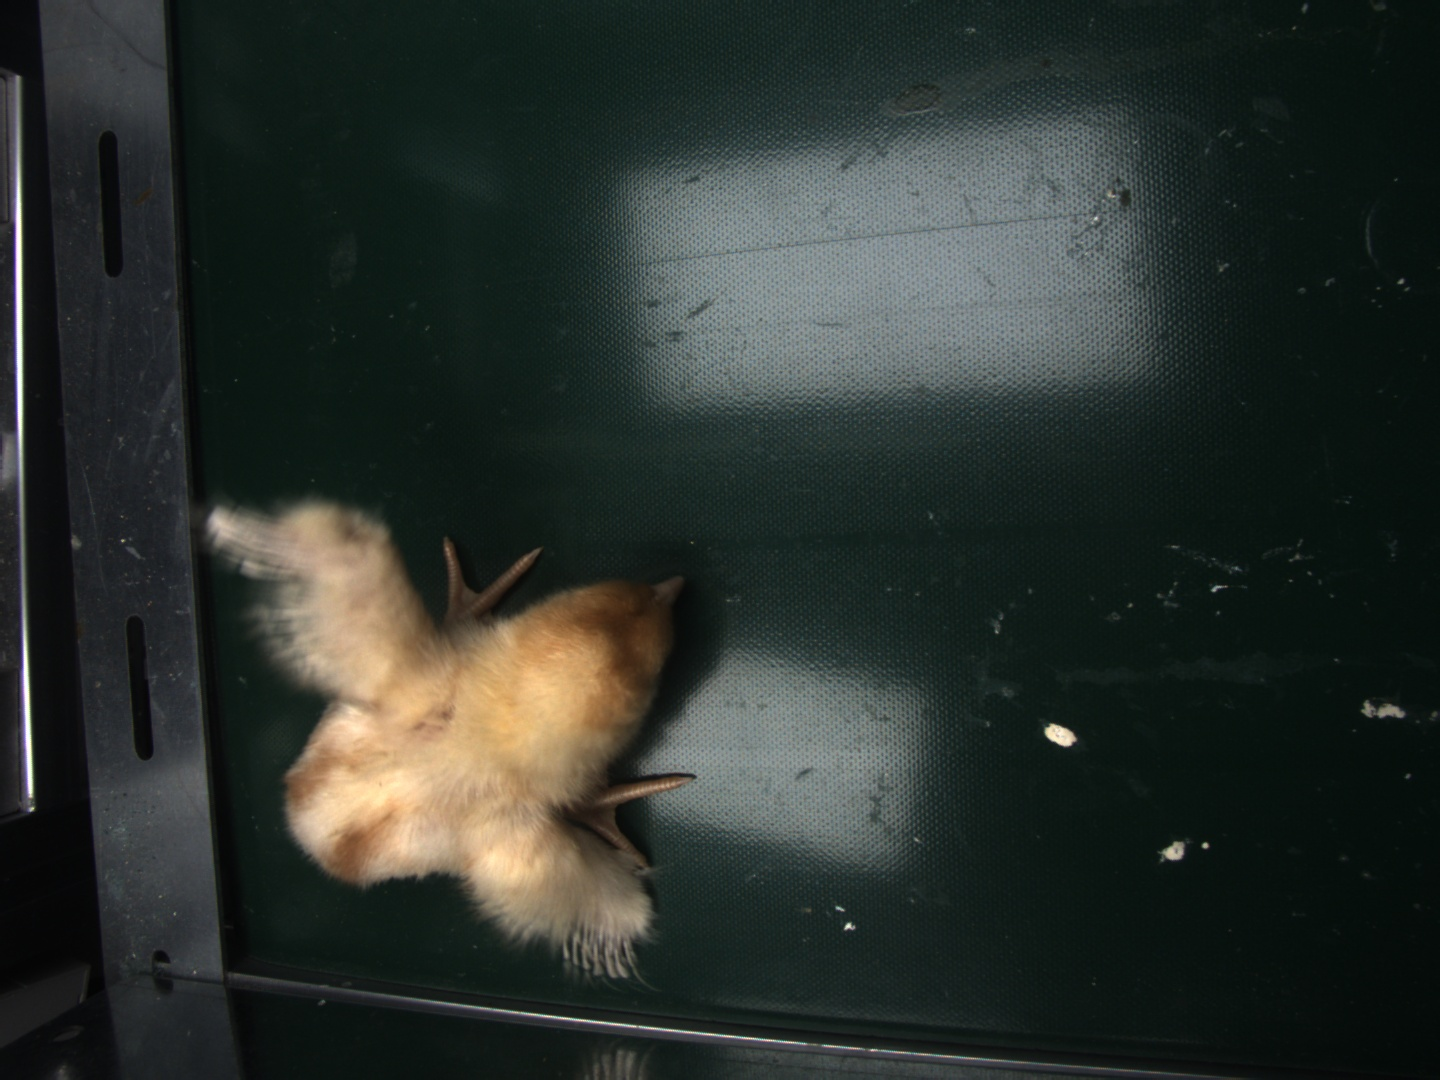female: (562, 919, 638, 976)
